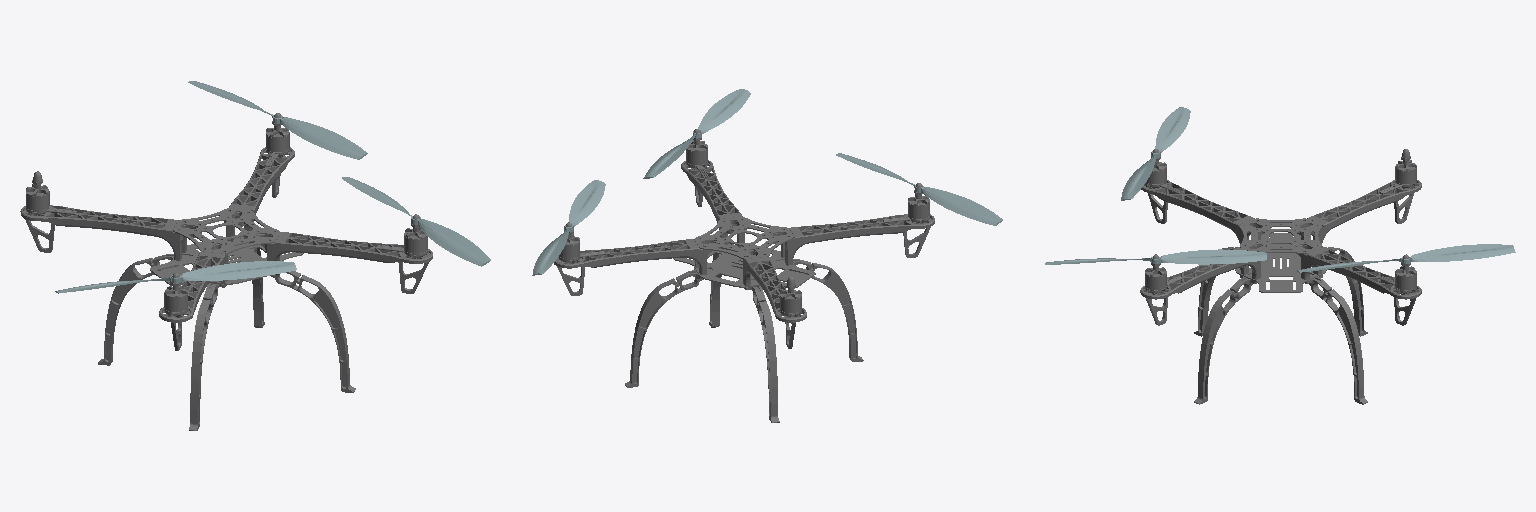
URDF robot description (dronesmb):
<?xml version="1.0" encoding="utf-8"?>
<!-- This URDF was automatically created by SolidWorks to URDF Exporter! Originally created by [author] ([email redacted]) 
     Commit Version: 1.6.0-4-g7f85cfe  Build Version: 1.6.7995.38578
     For more information, please see http://wiki.ros.org/sw_urdf_exporter -->
<robot
  name="dronesmb">
  <link
    name="base_drone">
    <inertial>
      <origin
        xyz="0.0044251 0.030145 0.182"
        rpy="0 0 0" />
      <mass
        value="0.77242" />
      <inertia
        ixx="0.00057079"
        ixy="1.0111E-11"
        ixz="-1.9621E-10"
        iyy="0.00086065"
        iyz="-1.6818E-11"
        izz="0.00059684" />
    </inertial>
    <visual>
      <origin
        xyz="0 0 0"
        rpy="0 0 0" />
      <geometry>
        <mesh
          filename="package://dronesmb/meshes/base_drone.STL" />
      </geometry>
      <material
        name="">
        <color
          rgba="0.50196 0.50196 0.50196 1" />
      </material>
    </visual>
    <collision>
      <origin
        xyz="0 0 0"
        rpy="0 0 0" />
      <geometry>
        <mesh
          filename="package://dronesmb/meshes/base_drone.STL" />
      </geometry>
    </collision>
  </link>
  <link
    name="fan_AVD">
    <inertial>
      <origin
        xyz="-1.1818E-10 4.7891E-10 -0.0022673"
        rpy="0 0 0" />
      <mass
        value="0.079235" />
      <inertia
        ixx="0.00056544"
        ixy="3.5825E-05"
        ixz="2.2128E-14"
        iyy="4.6143E-06"
        iyz="-9.0619E-14"
        izz="0.00056968" />
    </inertial>
    <visual>
      <origin
        xyz="0 0 0"
        rpy="0 0 0" />
      <geometry>
        <mesh
          filename="package://dronesmb/meshes/fan_AVD.STL" />
      </geometry>
      <material
        name="">
        <color
          rgba="0.59216 0.66667 0.68235 1" />
      </material>
    </visual>
    <collision>
      <origin
        xyz="0 0 0"
        rpy="0 0 0" />
      <geometry>
        <mesh
          filename="package://dronesmb/meshes/fan_AVD.STL" />
      </geometry>
    </collision>
  </link>
  <joint
    name="fan_AVDjoint"
    type="continuous">
    <origin
      xyz="0.16741 -0.34499 0.072835"
      rpy="0 0 0" />
    <parent
      link="base_drone" />
    <child
      link="fan_AVD" />
    <axis
      xyz="0 0 1" />
  </joint>
  <link
    name="fan_AVG">
    <inertial>
      <origin
        xyz="7.7592E-10 3.1356E-11 -0.0022673"
        rpy="0 0 0" />
      <mass
        value="0.079235" />
      <inertia
        ixx="0.00053874"
        ixy="0.0001247"
        ixz="6.9632E-14"
        iyy="3.1323E-05"
        iyz="2.4299E-13"
        izz="0.00056968" />
    </inertial>
    <visual>
      <origin
        xyz="0 0 0"
        rpy="0 0 0" />
      <geometry>
        <mesh
          filename="package://dronesmb/meshes/fan_AVG.STL" />
      </geometry>
      <material
        name="">
        <color
          rgba="0.59216 0.66667 0.68235 1" />
      </material>
    </visual>
    <collision>
      <origin
        xyz="0 0 0"
        rpy="0 0 0" />
      <geometry>
        <mesh
          filename="package://dronesmb/meshes/fan_AVG.STL" />
      </geometry>
    </collision>
  </link>
  <joint
    name="fan_AVGjoint"
    type="continuous">
    <origin
      xyz="0.16741 -0.019012 0.072835"
      rpy="0 0 0" />
    <parent
      link="base_drone" />
    <child
      link="fan_AVG" />
    <axis
      xyz="0 0 1" />
  </joint>
  <link
    name="fan_AD">
    <inertial>
      <origin
        xyz="-4.9041E-10 5.3118E-11 -0.0022673"
        rpy="0 0 0" />
      <mass
        value="0.079235" />
      <inertia
        ixx="4.7424E-05"
        ixy="0.00015317"
        ixz="9.2715E-14"
        iyy="0.00052263"
        iyz="-1.027E-14"
        izz="0.00056968" />
    </inertial>
    <visual>
      <origin
        xyz="0 0 0"
        rpy="0 0 0" />
      <geometry>
        <mesh
          filename="package://dronesmb/meshes/fan_AD.STL" />
      </geometry>
      <material
        name="">
        <color
          rgba="0.59216 0.66667 0.68235 1" />
      </material>
    </visual>
    <collision>
      <origin
        xyz="0 0 0"
        rpy="0 0 0" />
      <geometry>
        <mesh
          filename="package://dronesmb/meshes/fan_AD.STL" />
      </geometry>
    </collision>
  </link>
  <joint
    name="fan_ADjoint"
    type="continuous">
    <origin
      xyz="-0.15856 -0.34499 0.072835"
      rpy="0 0 0" />
    <parent
      link="base_drone" />
    <child
      link="fan_AD" />
    <axis
      xyz="0 0 1" />
  </joint>
  <link
    name="fan_AG">
    <inertial>
      <origin
        xyz="0 0 0"
        rpy="0 0 0" />
      <mass
        value="0" />
      <inertia
        ixx="0"
        ixy="0"
        ixz="0"
        iyy="0"
        iyz="0"
        izz="0" />
    </inertial>
    <visual>
      <origin
        xyz="0 0 0"
        rpy="0 0 0" />
      <geometry>
        <mesh
          filename="package://dronesmb/meshes/fan_AG.STL" />
      </geometry>
      <material
        name="">
        <color
          rgba="1 1 1 1" />
      </material>
    </visual>
    <collision>
      <origin
        xyz="0 0 0"
        rpy="0 0 0" />
      <geometry>
        <mesh
          filename="package://dronesmb/meshes/fan_AG.STL" />
      </geometry>
    </collision>
  </link>
  <joint
    name="fan_AGjoint"
    type="continuous">
    <origin
      xyz="-0.15856 -0.019012 0.072835"
      rpy="0 0 0" />
    <parent
      link="base_drone" />
    <child
      link="fan_AG" />
    <axis
      xyz="0 0 1" />
  </joint>
</robot>

--- Facts derived from the render (not from the file) ---
Views: 3 orthographic renders of the robot side by side, from view 1: azimuth 30°, elevation 25°; view 2: azimuth 150°, elevation 25°; view 3: azimuth 270°, elevation 25°.
Robot: dronesmb — 5 links, 4 joints (4 continuous); root link base_drone; default pose: all joints at 0.
Links seen in each view (by area): view 1: base_drone, fan_AD, fan_AVG, fan_AVD; view 2: base_drone, fan_AD, fan_AVD, fan_AVG; view 3: base_drone, fan_AVG, fan_AVD, fan_AD.
Boxes of the visible links, bbox=[...] form: base_drone: bbox=[20, 113, 432, 430]; fan_AD: bbox=[55, 261, 296, 293]; fan_AVG: bbox=[188, 81, 367, 159]; fan_AVD: bbox=[342, 177, 490, 266]; base_drone: bbox=[554, 129, 934, 422]; fan_AD: bbox=[836, 153, 1002, 225]; fan_AVD: bbox=[643, 89, 750, 178]; fan_AVG: bbox=[532, 180, 605, 275]; base_drone: bbox=[1140, 149, 1421, 404]; fan_AVG: bbox=[1297, 244, 1515, 272]; fan_AVD: bbox=[1045, 249, 1266, 264]; fan_AD: bbox=[1121, 107, 1190, 200].
Size in the robot's own frame: 0.5104 by 0.6135 by 0.239 metres.
Meshes: 5 distinct files referenced, 4 mesh visuals loaded (4 binary STL); not drawn: 1 (reference not matched to a file when rendering).